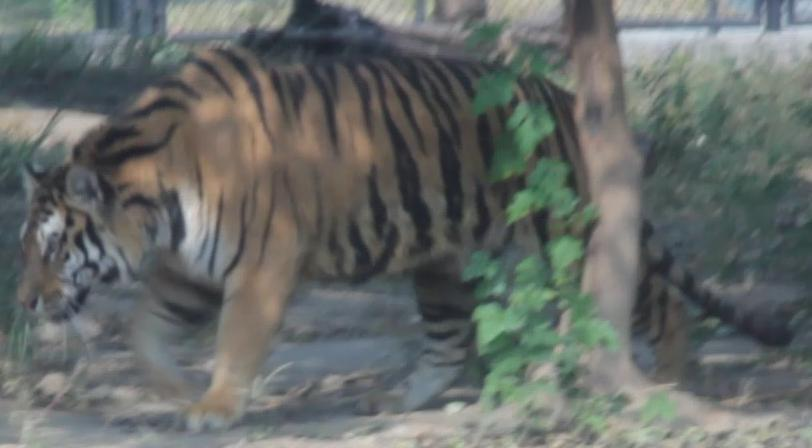tiger: (18, 0, 523, 426)
